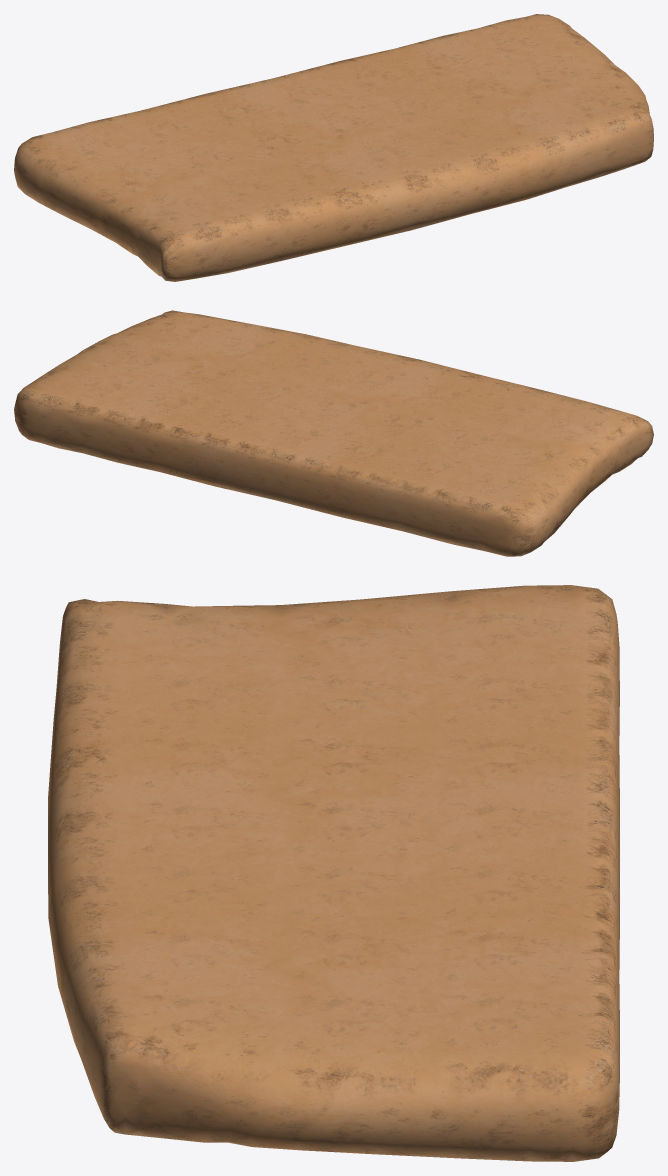
File: SlopeConnectorDouble.fbx
The picture shows the model from 3 angles, top to bottom: view 1: azimuth 30°, elevation 25°; view 2: azimuth 150°, elevation 25°; view 3: azimuth 270°, elevation 25°; orthographic projection. The views are drawn at different scales.
Visible parts, largest first — view 1: Cube.002; view 2: Cube.002; view 3: Cube.002.
Boxes of the visible parts, bbox=[...] form: Cube.002: bbox=[14, 14, 653, 281]; Cube.002: bbox=[14, 310, 653, 556]; Cube.002: bbox=[48, 585, 619, 1161].
Size of the model in its own units: 865 by 76.52 by 408.
